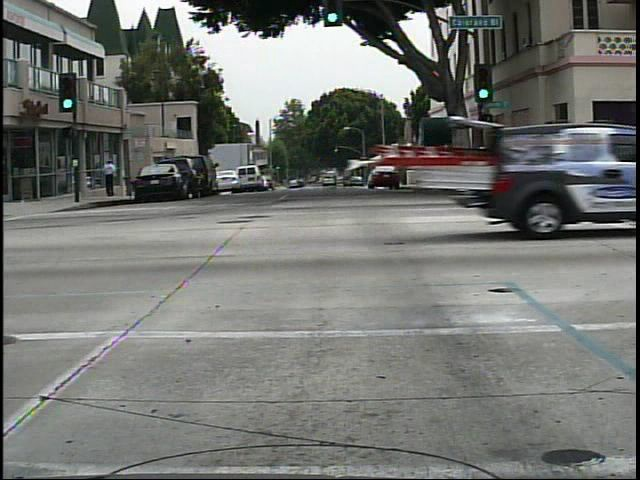person: (453, 142, 481, 197), (98, 153, 124, 202)
